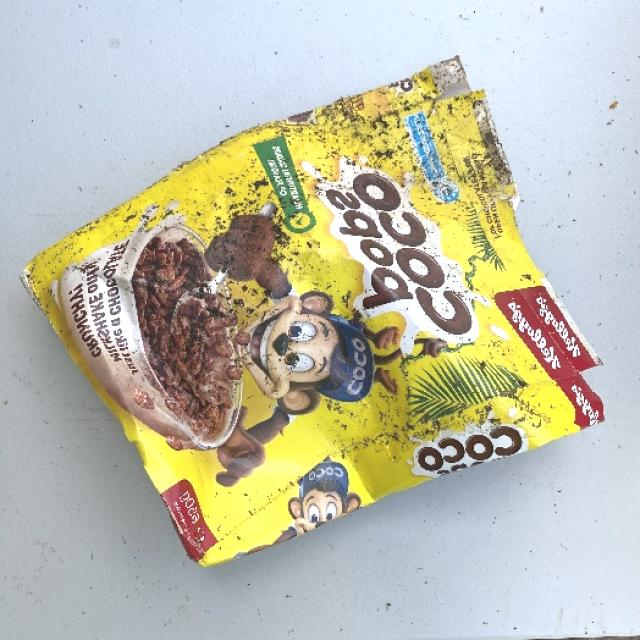kertas: (58, 58, 619, 570)
